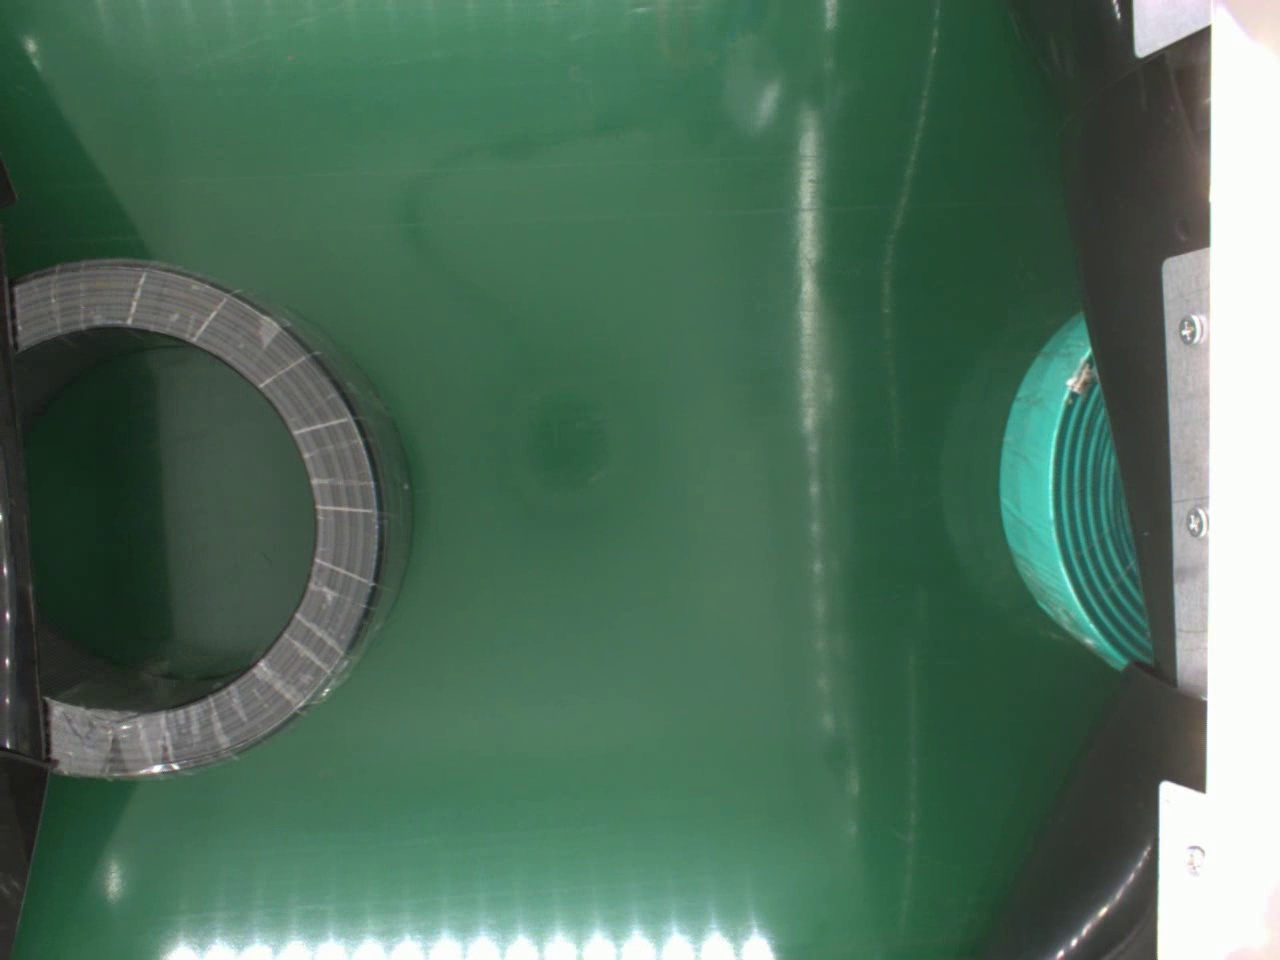black: (0, 252, 421, 783)
green: (998, 306, 1156, 681)
